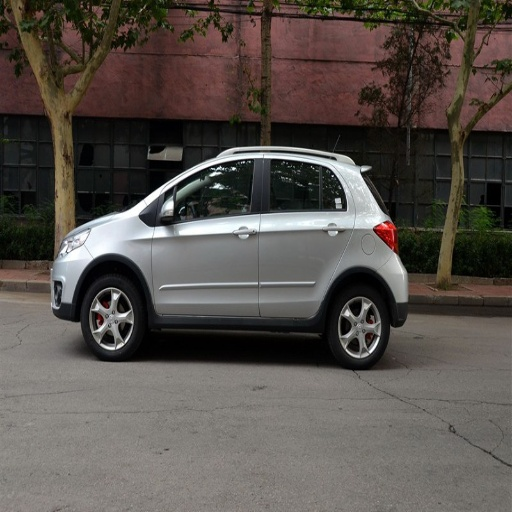back_left_door: (259, 154, 350, 318)
front_left_door: (152, 155, 262, 315)
